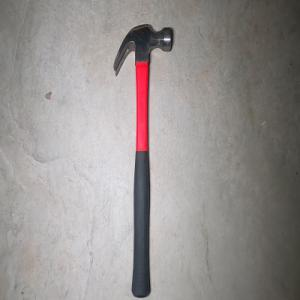Hammer: (112, 22, 172, 298)
